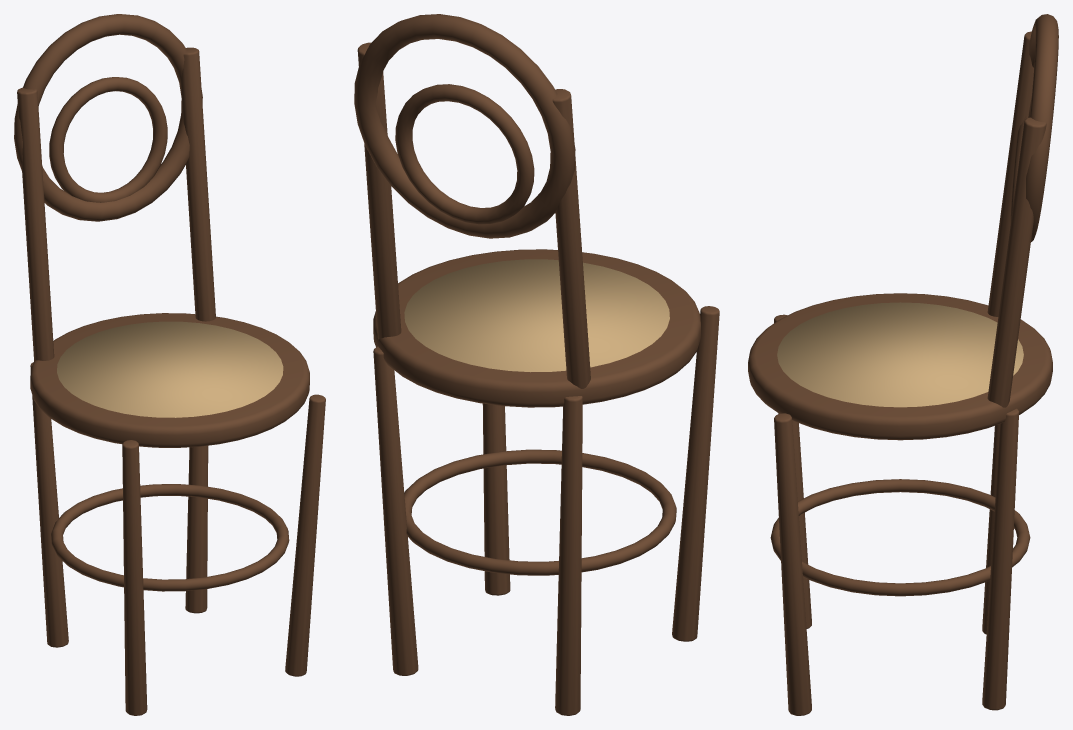
The model's file is chaise.glb.
3 views of the same model, side by side, from view 1: azimuth 30°, elevation 25°; view 2: azimuth 150°, elevation 25°; view 3: azimuth 270°, elevation 25° (orthographic). The views are drawn at different scales.
Parts seen in each view (by area): view 1: cannage, assise, dossier, cerceau, montant-0.14, pied1, montant0.14, pied0, dossier_int, pied2, pied3; view 2: cannage, assise, dossier, cerceau, pied0, pied3, pied2, dossier_int, montant-0.14, montant0.14, pied1; view 3: cannage, assise, pied1, pied3, cerceau, montant0.14, dossier, montant-0.14, pied0, pied2.
Part boxes in pixels (x1=…): cannage: x1=57, y1=321, x2=283, y2=417; assise: x1=30, y1=313, x2=309, y2=447; dossier: x1=14, y1=14, x2=202, y2=221; cerceau: x1=51, y1=484, x2=289, y2=591; montant-0.14: x1=17, y1=87, x2=54, y2=360; pied1: x1=285, y1=394, x2=325, y2=676; montant0.14: x1=180, y1=47, x2=215, y2=321; pied0: x1=122, y1=440, x2=147, y2=715; dossier_int: x1=49, y1=77, x2=167, y2=202; pied2: x1=30, y1=362, x2=68, y2=647; pied3: x1=185, y1=445, x2=208, y2=613; cannage: x1=404, y1=259, x2=669, y2=372; assise: x1=373, y1=249, x2=700, y2=407; dossier: x1=354, y1=14, x2=575, y2=238; cerceau: x1=404, y1=449, x2=676, y2=575; pied0: x1=672, y1=306, x2=719, y2=641; pied3: x1=373, y1=346, x2=418, y2=675; pied2: x1=555, y1=396, x2=582, y2=715; dossier_int: x1=395, y1=84, x2=534, y2=224; montant-0.14: x1=552, y1=89, x2=590, y2=388; montant0.14: x1=357, y1=42, x2=401, y2=339; pied1: x1=482, y1=403, x2=510, y2=595; cannage: x1=777, y1=302, x2=1023, y2=407; assise: x1=748, y1=293, x2=1052, y2=440; pied1: x1=774, y1=413, x2=811, y2=715; pied3: x1=982, y1=408, x2=1018, y2=710; cerceau: x1=770, y1=479, x2=1030, y2=596; montant0.14: x1=987, y1=117, x2=1046, y2=407; dossier: x1=1010, y1=14, x2=1058, y2=241; montant-0.14: x1=987, y1=31, x2=1033, y2=316; pied0: x1=774, y1=314, x2=811, y2=628; pied2: x1=982, y1=424, x2=1000, y2=634.
Bounding box in the file's own units: 0.42 × 0.9802 × 0.4282.
